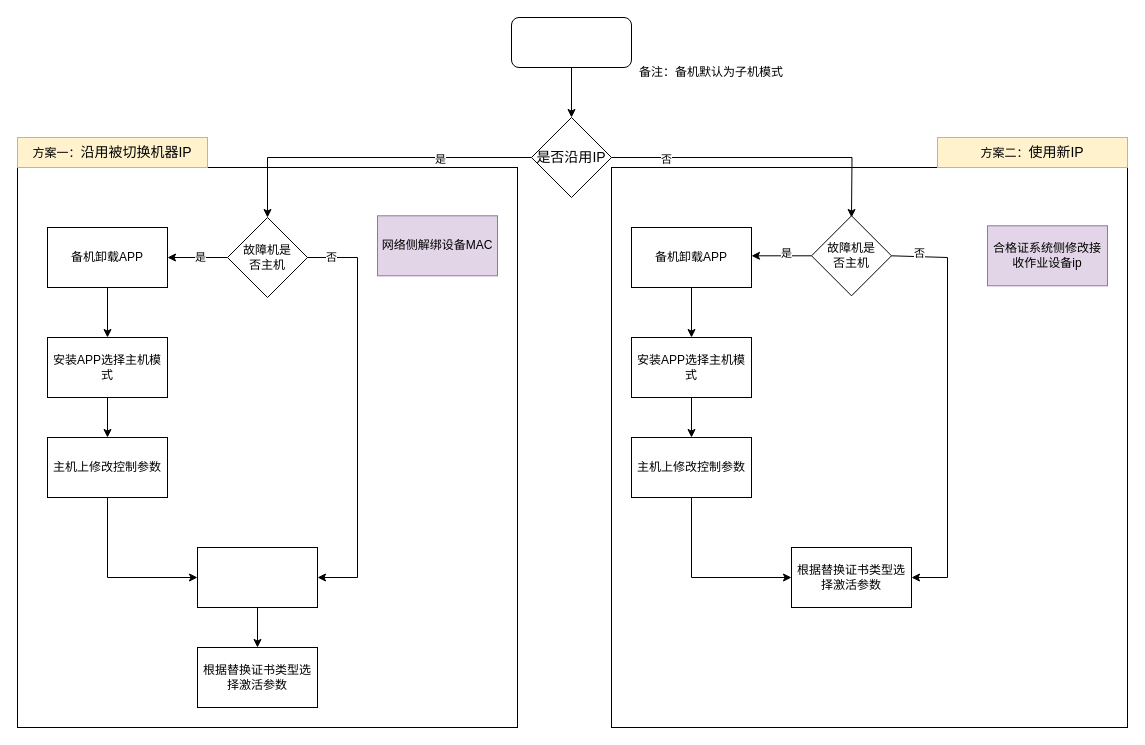
The diagram is 1145 pixels wide and 745 high, and some of its shapes have lost their labels. Here are the shapes that lost their labels. From the top down, the centre of each, then its label:
(x=571, y=42): 四证一体机切换
(x=257, y=577): 更改备机打印机、一体机IP
